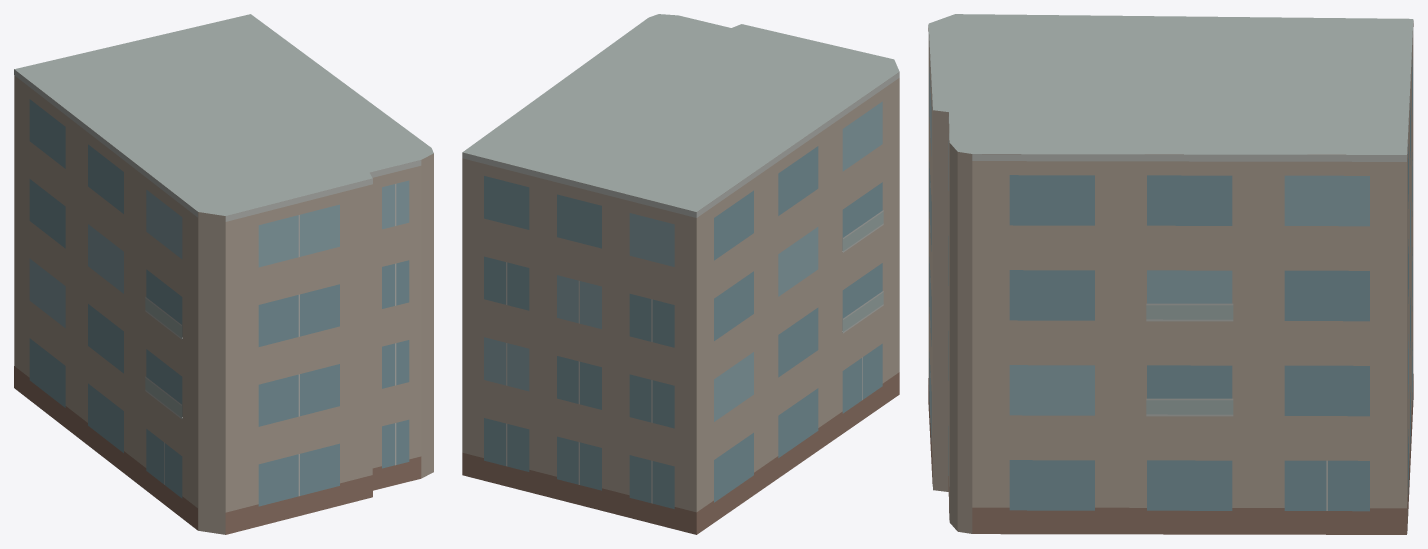
Rendered from survey-upis-32632386.glb.
The picture shows the model from 3 angles, left to right: view 1: azimuth 30°, elevation 25°; view 2: azimuth 150°, elevation 25°; view 3: azimuth 270°, elevation 25°; orthographic projection. The views are drawn at different scales.
Visible parts, largest first — view 1: survey-upis-32632386.tmp; view 2: survey-upis-32632386.tmp; view 3: survey-upis-32632386.tmp.
Boxes of the visible parts, bbox=[...] form: survey-upis-32632386.tmp: bbox=[14, 14, 433, 534]; survey-upis-32632386.tmp: bbox=[462, 14, 899, 534]; survey-upis-32632386.tmp: bbox=[928, 14, 1413, 534].
Size of the model in its own units: 10.52 by 13.2 by 15.27.
